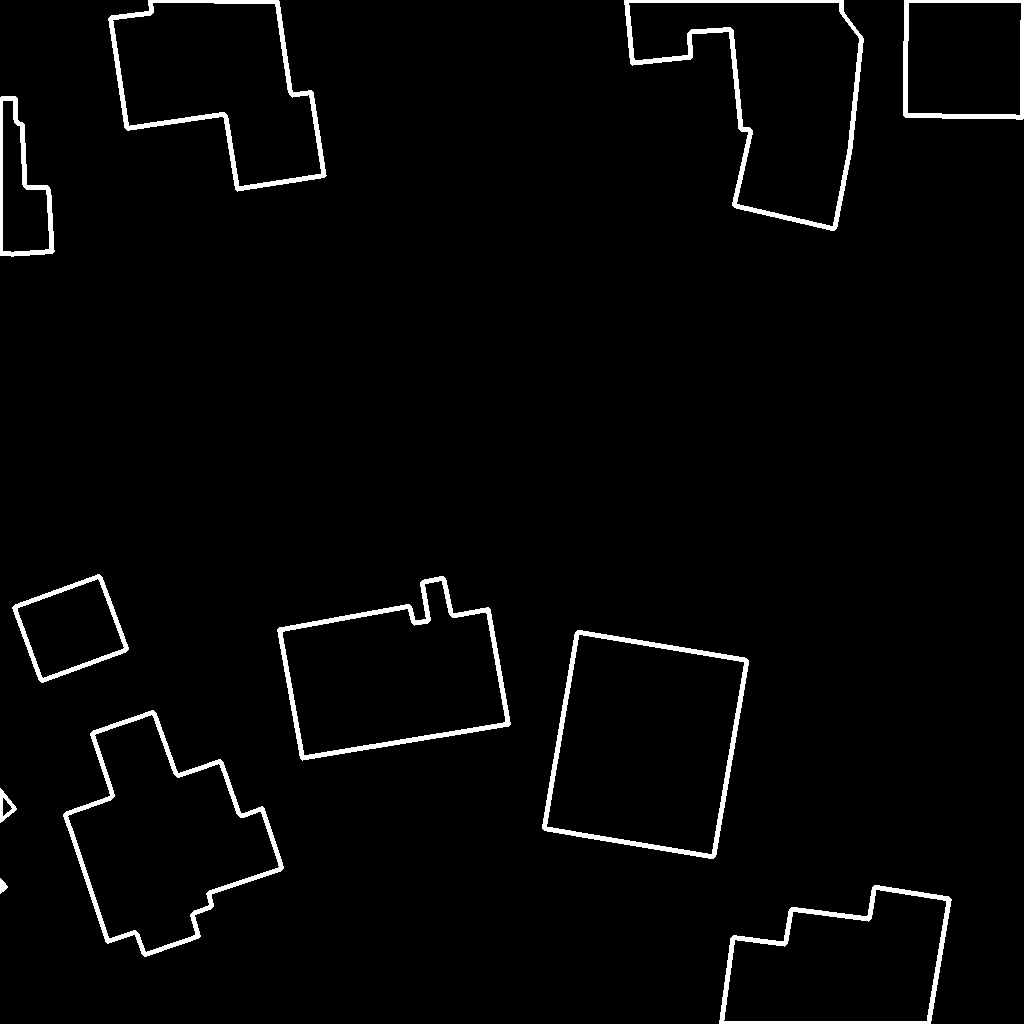building: (626, 0, 862, 230), (65, 712, 283, 956), (544, 632, 748, 858), (279, 578, 510, 759), (110, 0, 325, 190), (721, 887, 951, 1024), (905, 0, 1024, 118), (14, 576, 128, 682), (0, 98, 53, 255), (0, 790, 16, 893)
